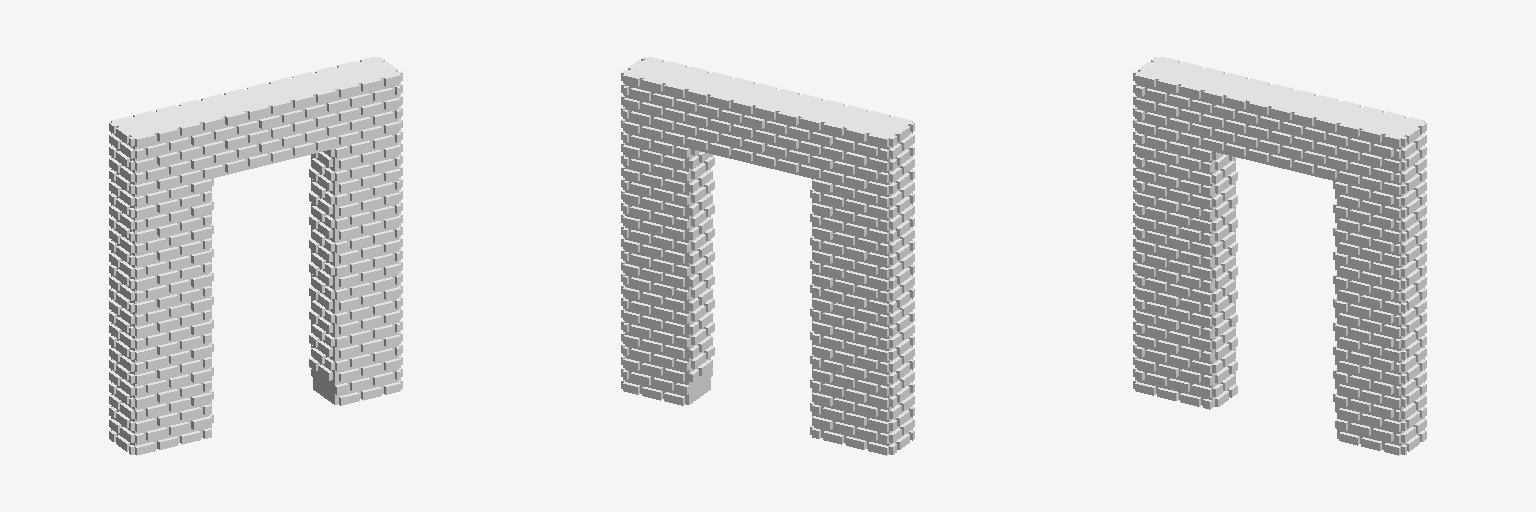
File: wall_door_rc_1.1.obj
3 views of the same model, side by side, from view 1: azimuth 30°, elevation 25°; view 2: azimuth 150°, elevation 25°; view 3: azimuth 330°, elevation 25° (orthographic).
Visible parts, largest first — view 1: object 1; view 2: object 1; view 3: object 1.
Part boxes in pixels (x1,y1,x2,y2): object 1: (109, 56, 402, 455); object 1: (621, 56, 914, 455); object 1: (1133, 56, 1426, 455).
Size of the model in its own units: 7.2 by 8 by 1.2.